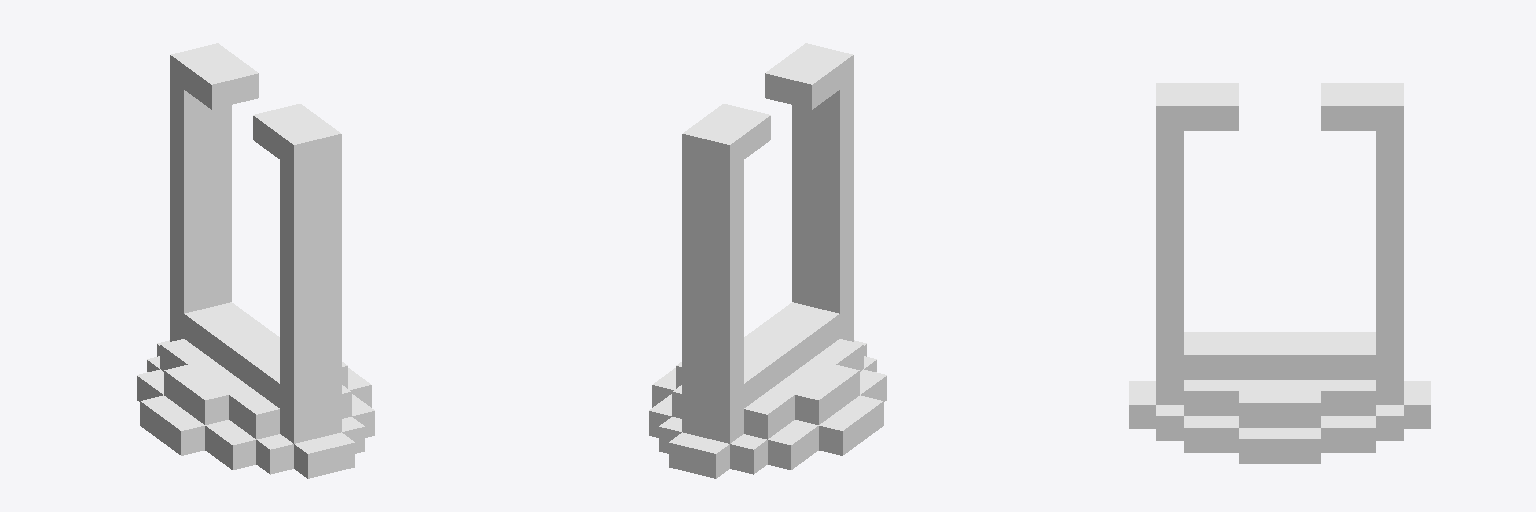
File: Saw-Launcher.obj
The picture shows the model from 3 angles: view 1: azimuth 30°, elevation 25°; view 2: azimuth 150°, elevation 25°; view 3: azimuth 270°, elevation 25°; orthographic projection.
Visible parts, largest first — view 1: object 1; view 2: object 1; view 3: object 1.
Part boxes in pixels (x1,y1,x2,y2): object 1: (137, 43, 374, 478); object 1: (649, 43, 886, 478); object 1: (1129, 83, 1430, 463).
Size of the model in its own units: 0.8 by 1.3 by 1.1.